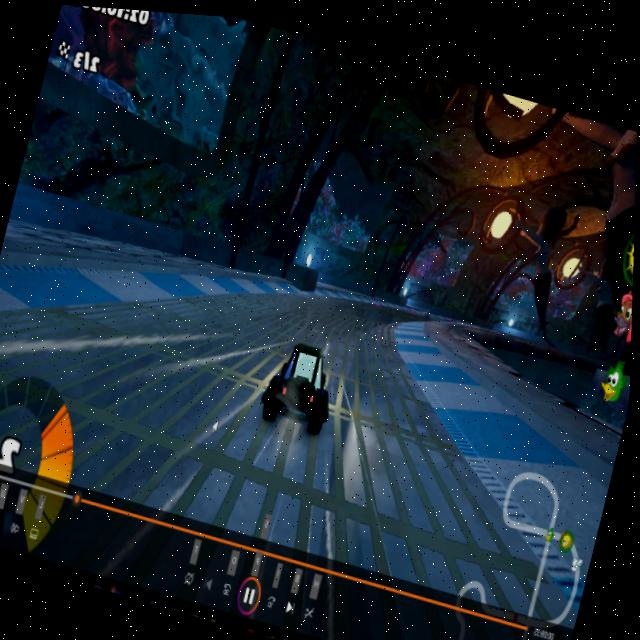off_track: (426, 354, 533, 427), (152, 260, 221, 296)
player_kart: (251, 329, 350, 440)
track: (289, 276, 398, 354)
